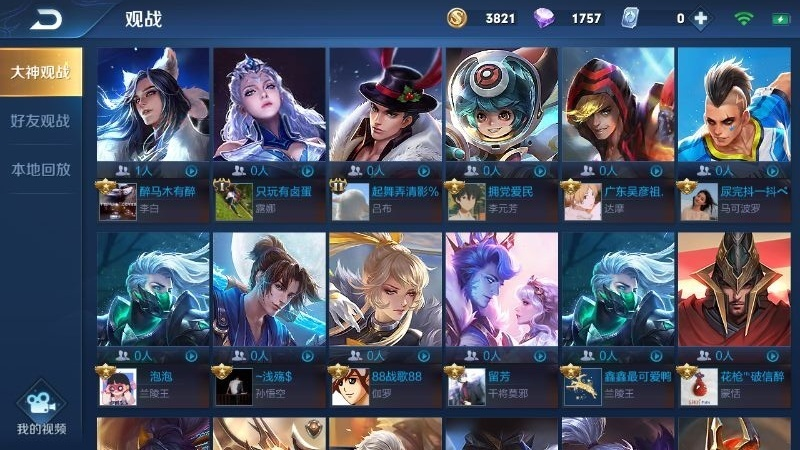return: (22, 1, 79, 33)
tag: (4, 149, 74, 188), (4, 98, 72, 138)
